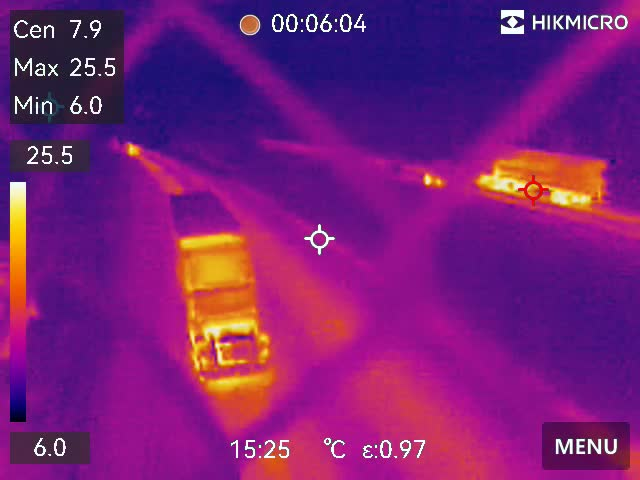heavyTruck: (171, 188, 276, 393), (473, 144, 609, 210)
